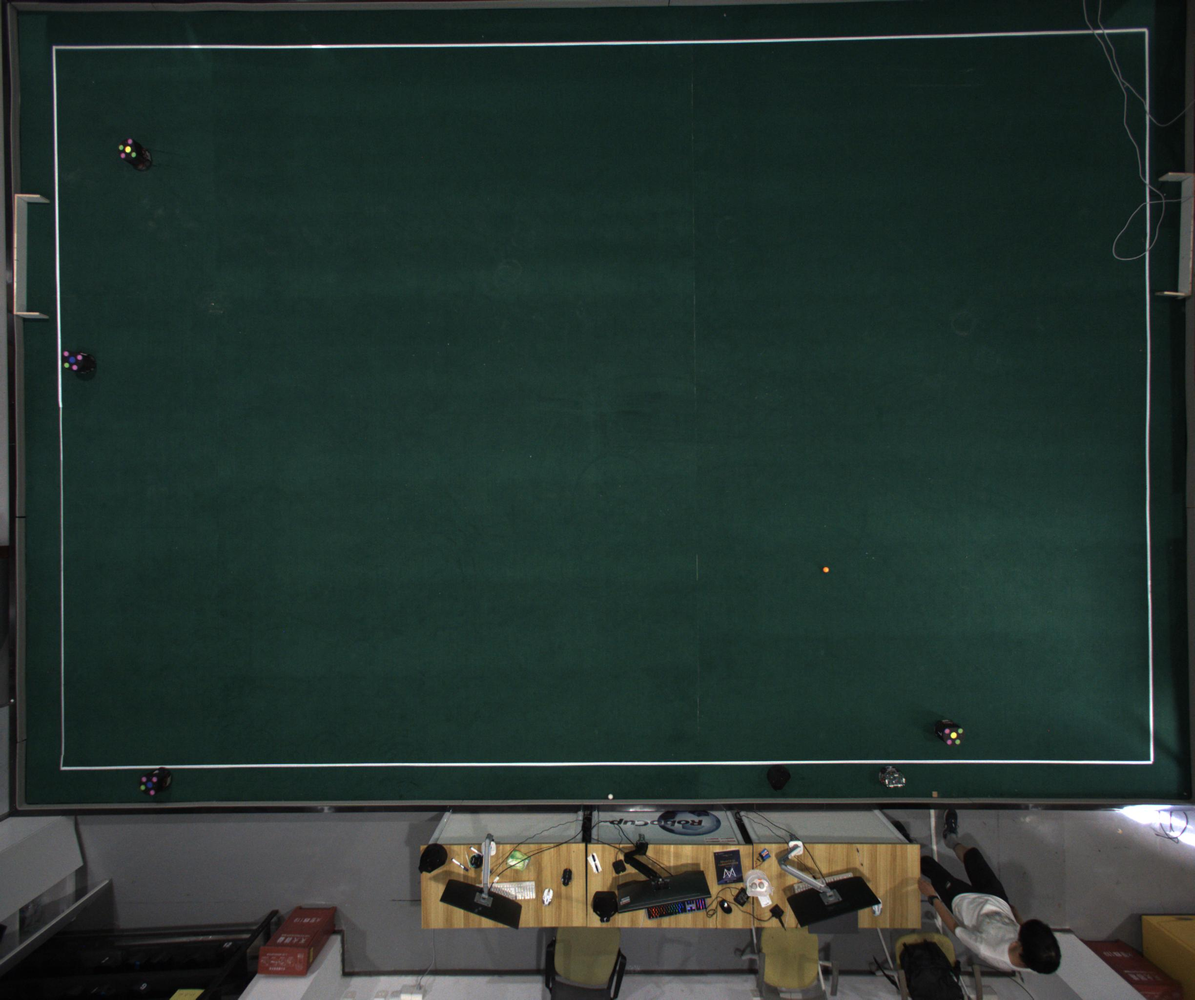ball: (823, 566, 830, 573)
blue_bot: (62, 350, 84, 371), (140, 774, 159, 796)
yellow_bot: (118, 138, 137, 161), (943, 728, 964, 745)
